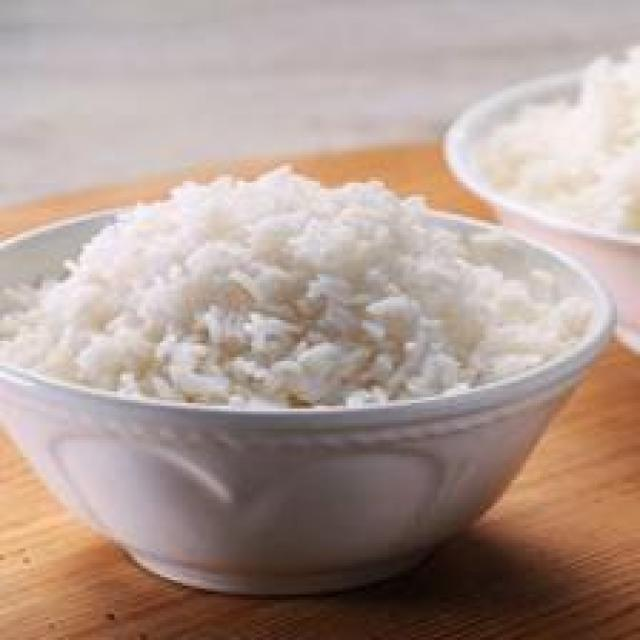Wet Waste: (12, 176, 600, 428), (467, 59, 640, 248)
